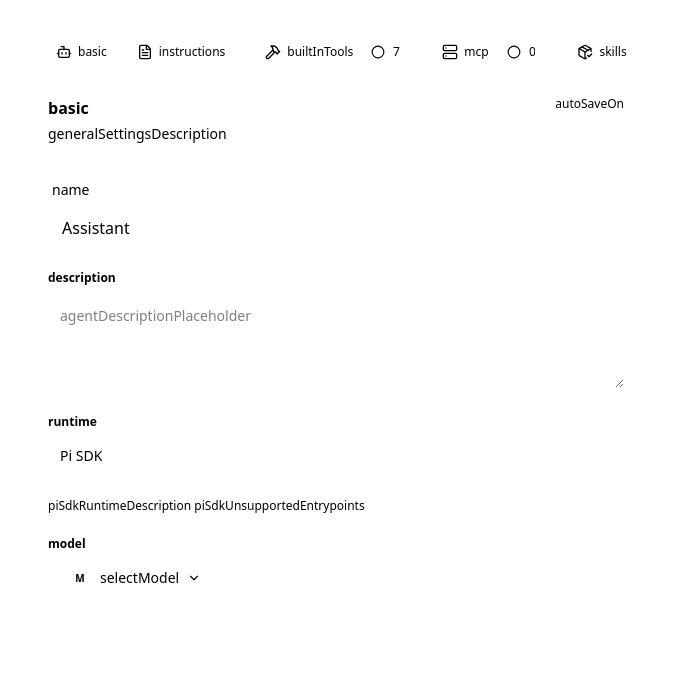
it: agent configuration mutation feedback › translates PI_PACKAGE_MCP_BINDING_REQUIRED autosave failures and keeps unsaved state
Replace the text in the field labelled "name" with "Changed" at (336, 228), box [48,206,624,250]
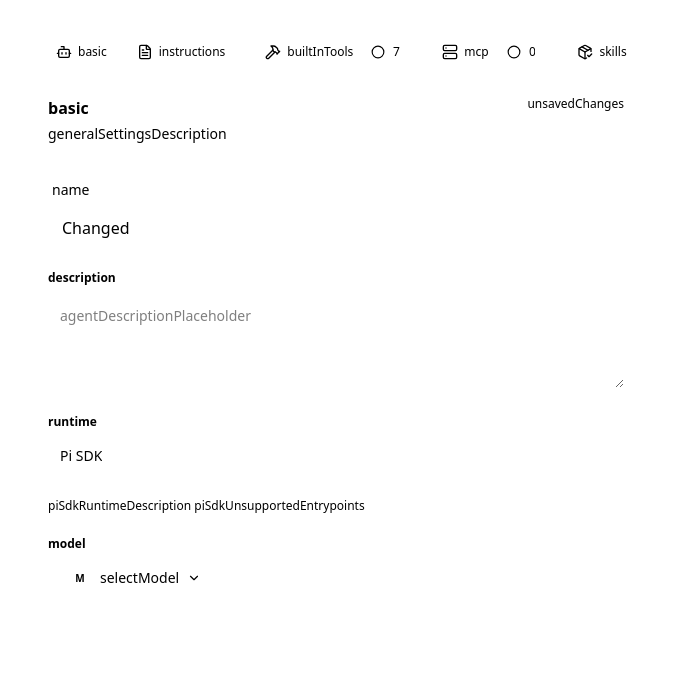
Leave the field labelled "name", box [48,206,624,250]
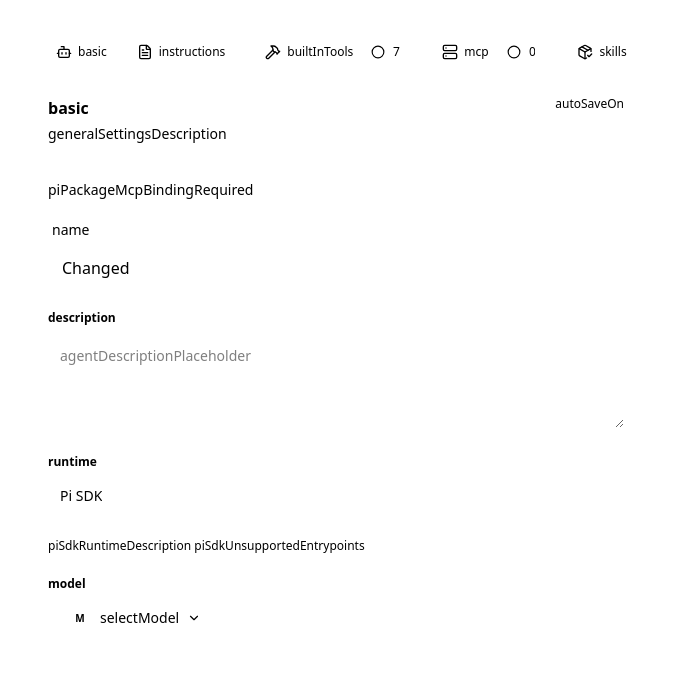
expect the message "piPackageMcpBindingRequired" is shown: met, box [48,180,254,199]
